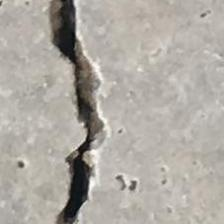Crack: (6, 0, 135, 223)
